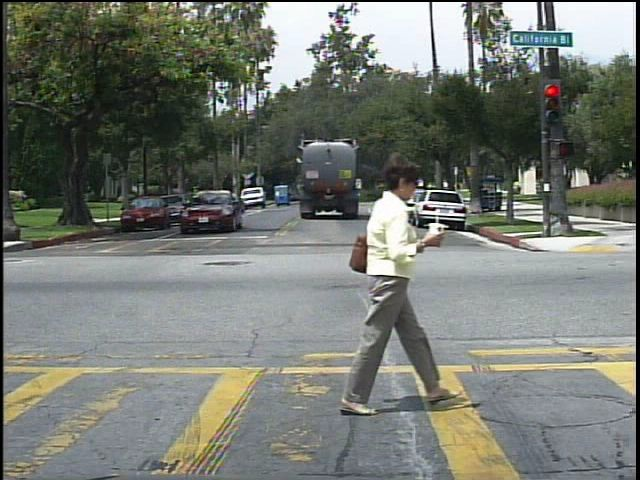person: (333, 150, 453, 422), (515, 180, 528, 199)
